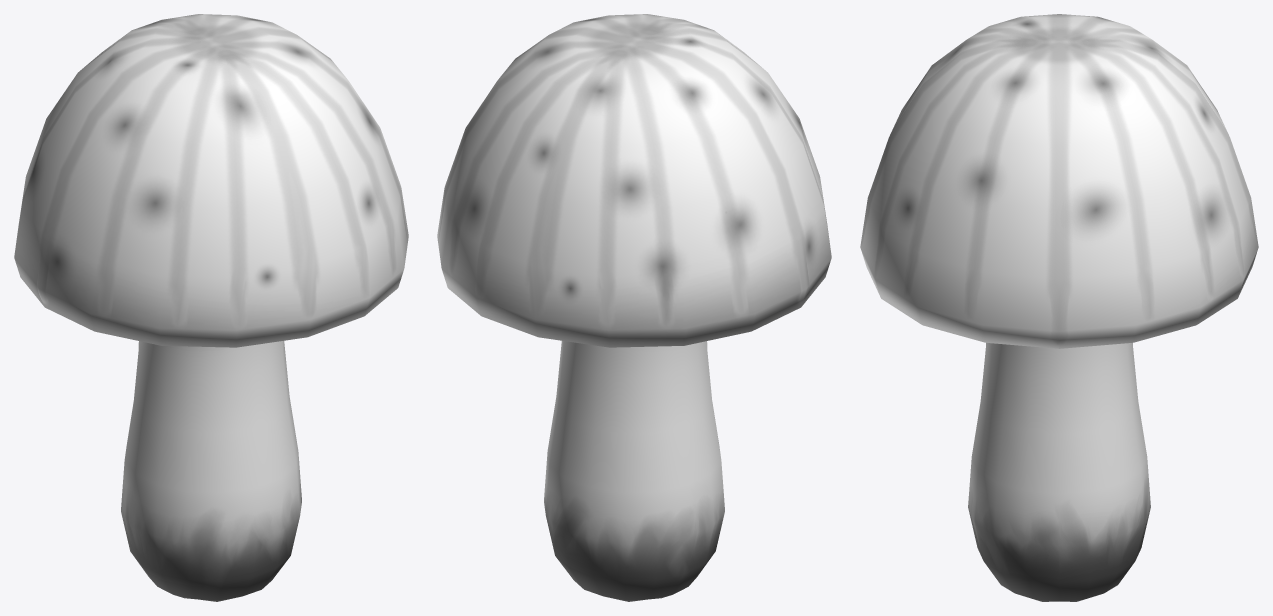
Rendered from Mushroom_Round.fbx.
3 views of the same model, side by side, from view 1: azimuth 30°, elevation 25°; view 2: azimuth 150°, elevation 25°; view 3: azimuth 270°, elevation 25° (orthographic).
Parts seen in each view (by area): view 1: Cube; view 2: Cube; view 3: Cube.
Part boxes in pixels (bbox=[...]): Cube: bbox=[14, 14, 408, 601]; Cube: bbox=[437, 14, 831, 601]; Cube: bbox=[860, 14, 1258, 601].
Bounding box in the file's own units: 543 × 820 × 543.
